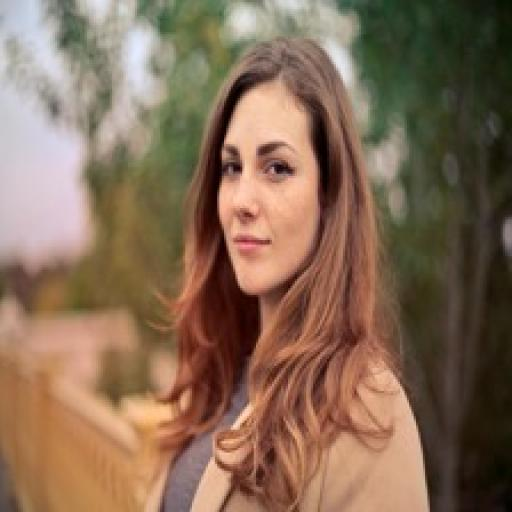human: (125, 29, 432, 512)
